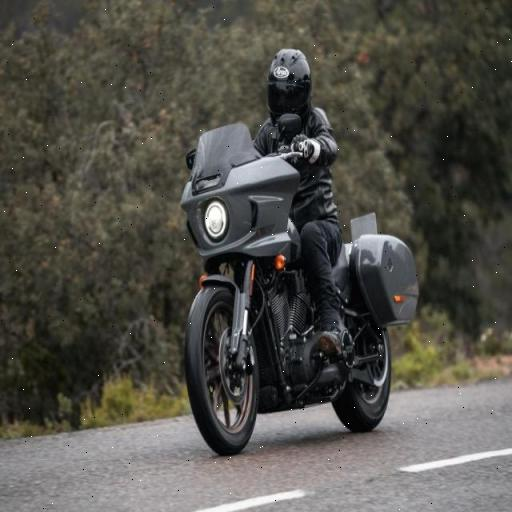Helmet: (262, 39, 316, 127)
Motor: (166, 134, 408, 452)
